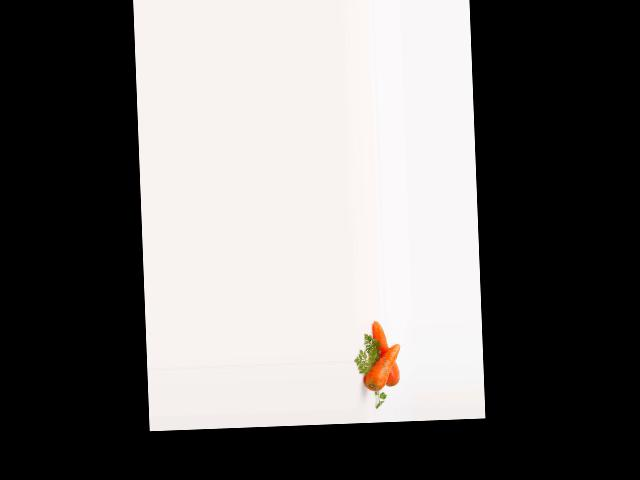carrot: (371, 319, 400, 388)
